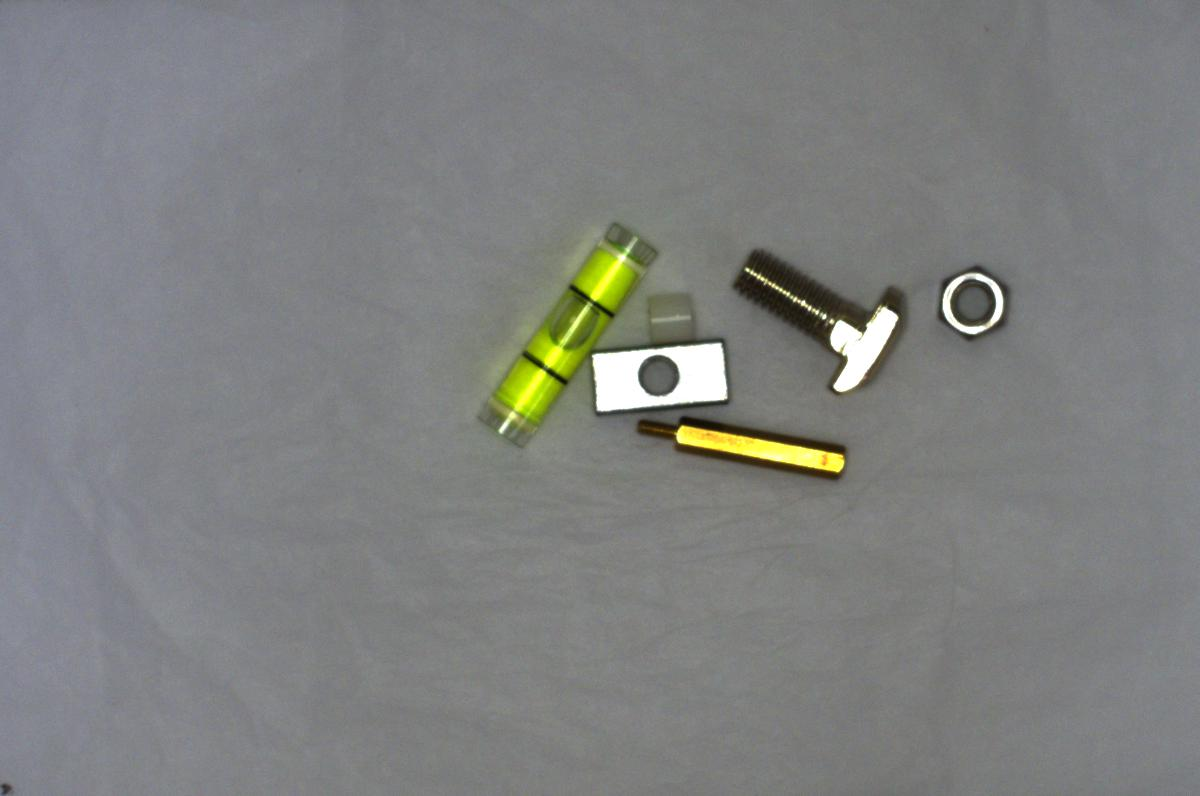Hexagon nut: (920, 255, 1019, 349)
Hexagon pillar: (625, 414, 858, 486)
Horizontal bubble: (460, 214, 656, 453)
Plastic cushion pillar: (634, 281, 711, 346)
Rectangular nut: (583, 337, 737, 419)
T-shaped screw: (717, 242, 912, 401)
